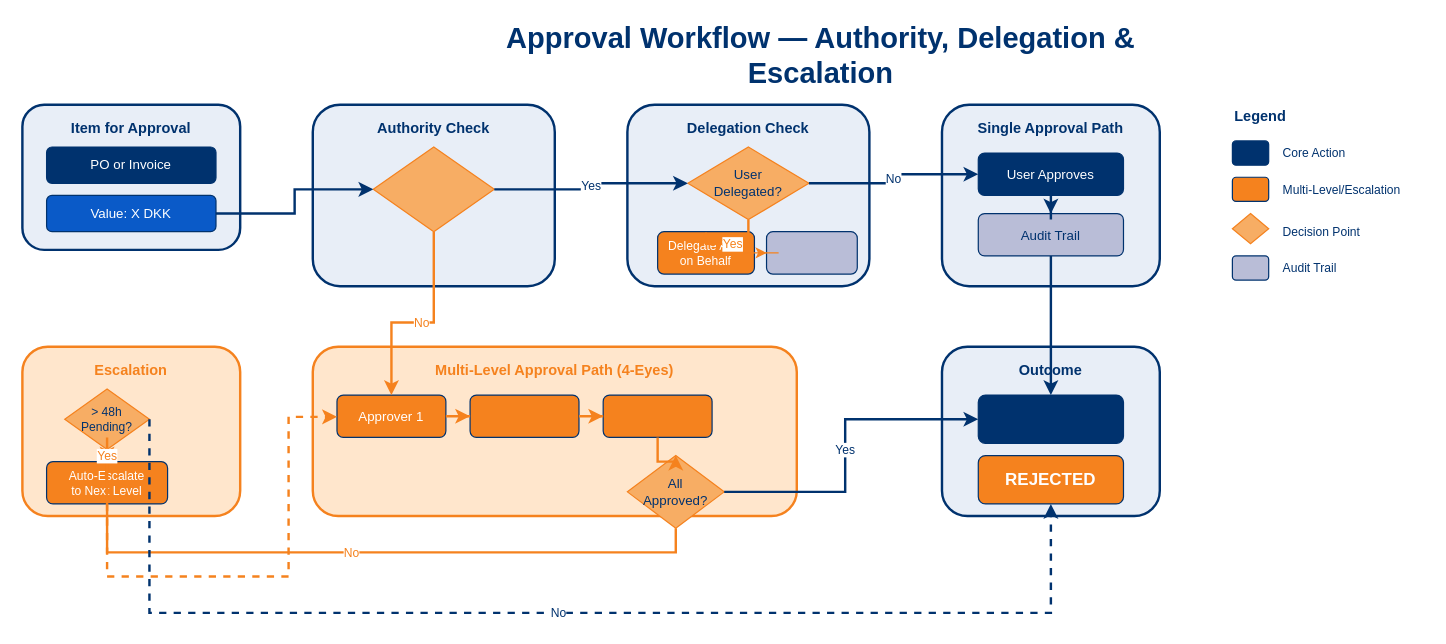
Some shapes in this 1446 by 644 pixel diagram are drawn without their labels. Here are the shapes that lost their labels. From the top down, the centre of each, then its label:
At pixel 433 189: "User limit >= X?".
At pixel 811 252: "Audit: By X on behalf of Y".
At pixel 524 415: "Approver 2".
At pixel 657 415: "Approver N...".
At pixel 1050 418: "APPROVED".
